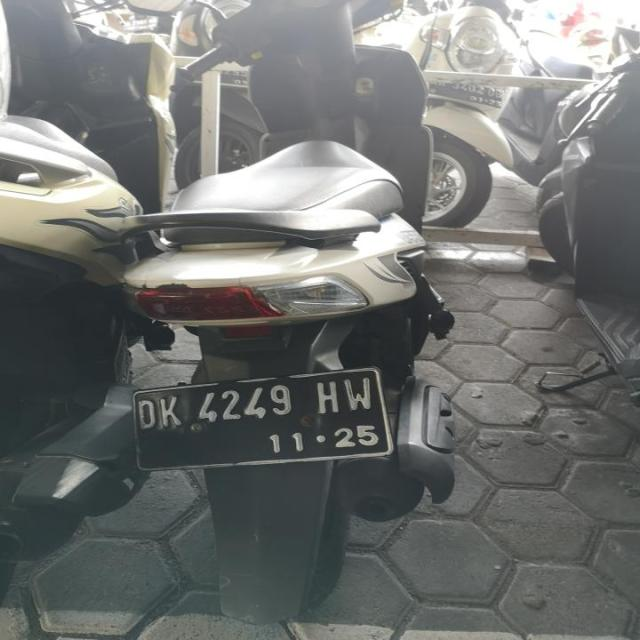License Plate: (130, 365, 395, 474), (428, 81, 504, 109)
